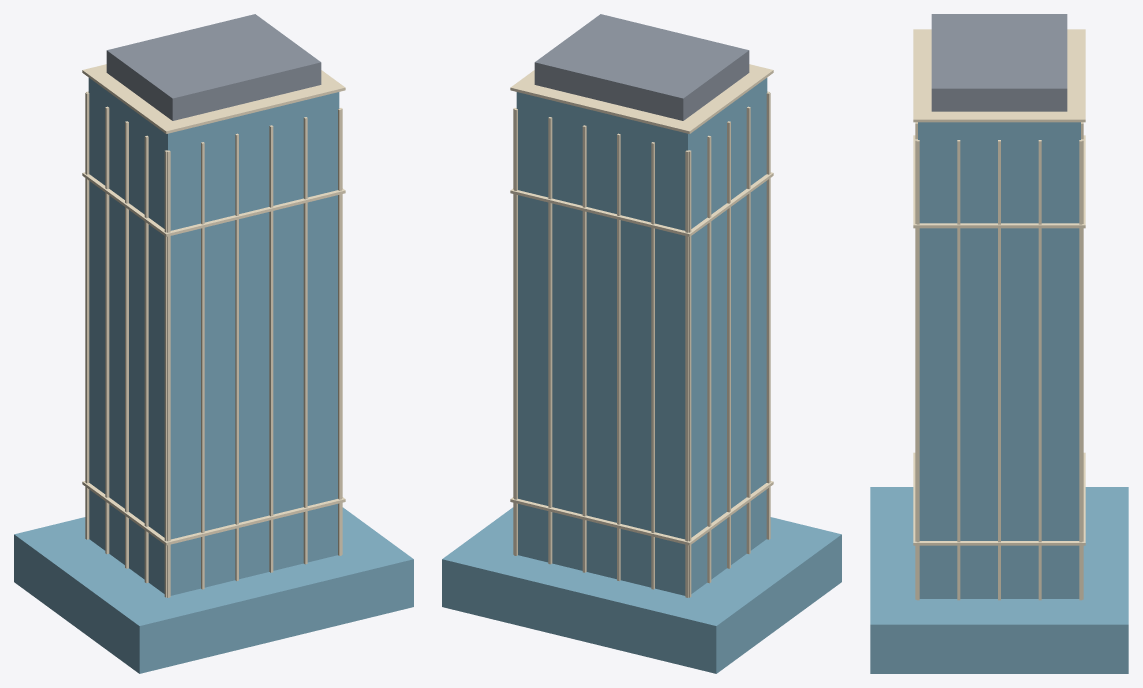
Rendered from modern-0-lod1.glb.
3 views of the same model, side by side, from view 1: azimuth 30°, elevation 25°; view 2: azimuth 150°, elevation 25°; view 3: azimuth 270°, elevation 25° (orthographic). The views are drawn at different scales.
Parts seen in each view (by area): view 1: modern-0_architecture; view 2: modern-0_architecture; view 3: modern-0_architecture.
Part boxes in pixels (x1,y1,x2,y2): modern-0_architecture: [14, 14, 413, 673]; modern-0_architecture: [442, 14, 841, 673]; modern-0_architecture: [870, 14, 1128, 673].
Bounding box in the file's own units: 24 × 45 × 19.
